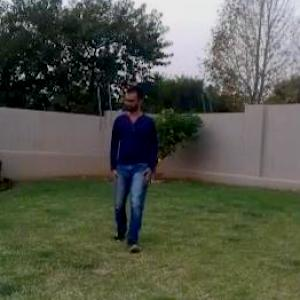follow: (106, 76, 157, 250)
